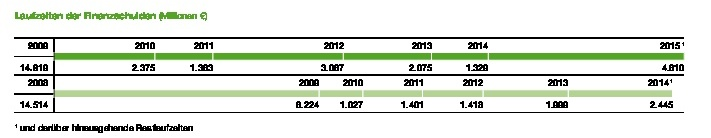table: (0, 0, 711, 138)
